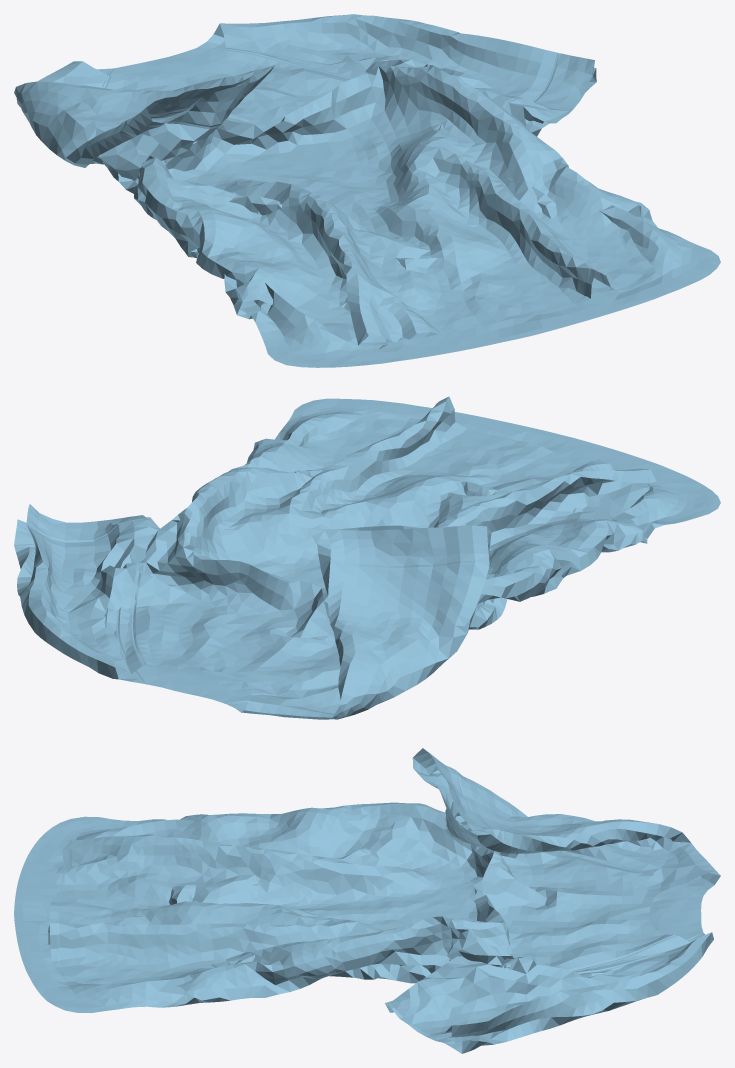
File: frame_18.glb
3 renders of one model, top to bottom at view 1: azimuth 30°, elevation 25°; view 2: azimuth 150°, elevation 25°; view 3: azimuth 270°, elevation 25°, orthographic. The views are drawn at different scales.
Visible parts, largest first — view 1: frame_18.obj; view 2: frame_18.obj; view 3: frame_18.obj.
Boxes of the visible parts, <box> form: frame_18.obj: <box>14,14,720,367</box>; frame_18.obj: <box>14,396,720,719</box>; frame_18.obj: <box>14,748,720,1053</box>.
Bounding box in the file's own units: 1.44 × 0.2927 × 1.83.
